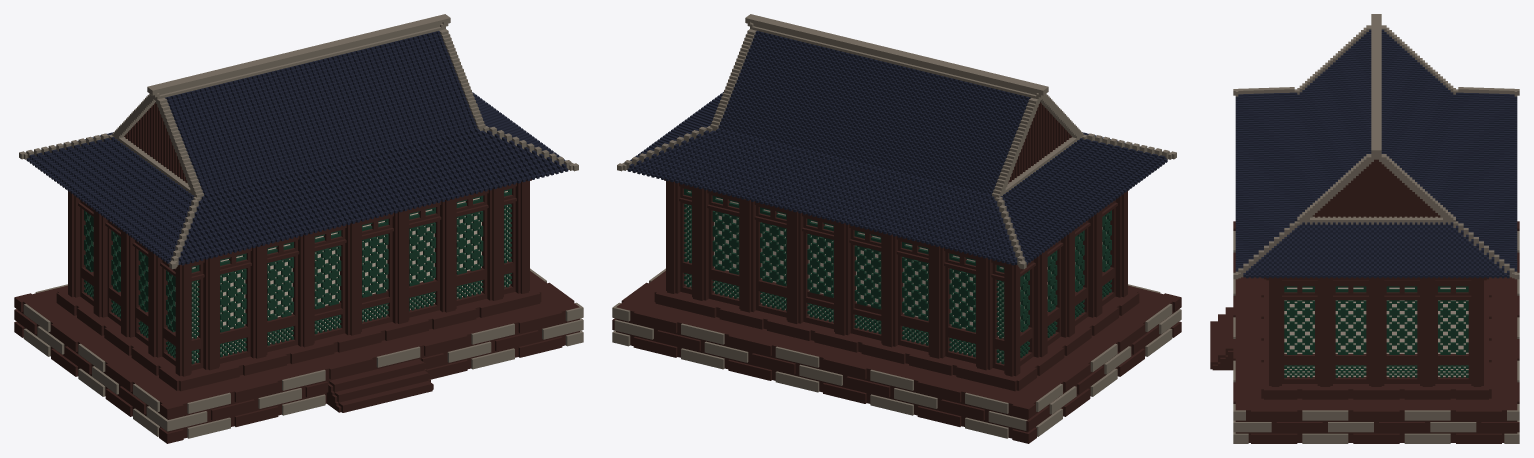
Rendered from Korean castle_house_03.FBX.
The picture shows the model from 3 angles, left to right: view 1: azimuth 30°, elevation 25°; view 2: azimuth 150°, elevation 25°; view 3: azimuth 270°, elevation 25°; orthographic projection. The views are drawn at different scales.
Parts seen in each view (by area): view 1: Voxel_Korean_traditional castle-22; view 2: Voxel_Korean_traditional castle-22; view 3: Voxel_Korean_traditional castle-22.
Part boxes in pixels (box(x1,y1,x2,y2)): Voxel_Korean_traditional castle-22: box(14, 14, 583, 443); Voxel_Korean_traditional castle-22: box(612, 14, 1181, 443); Voxel_Korean_traditional castle-22: box(1210, 14, 1519, 443).
Size of the model in its own units: 352 by 230 by 242.
1 material, 1 textured.
